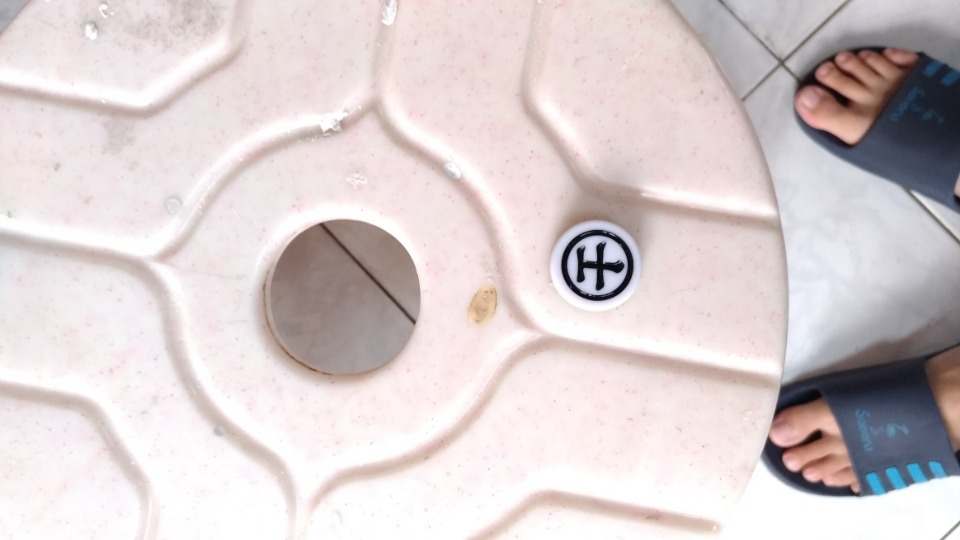b-advisor: (545, 209, 671, 319)
